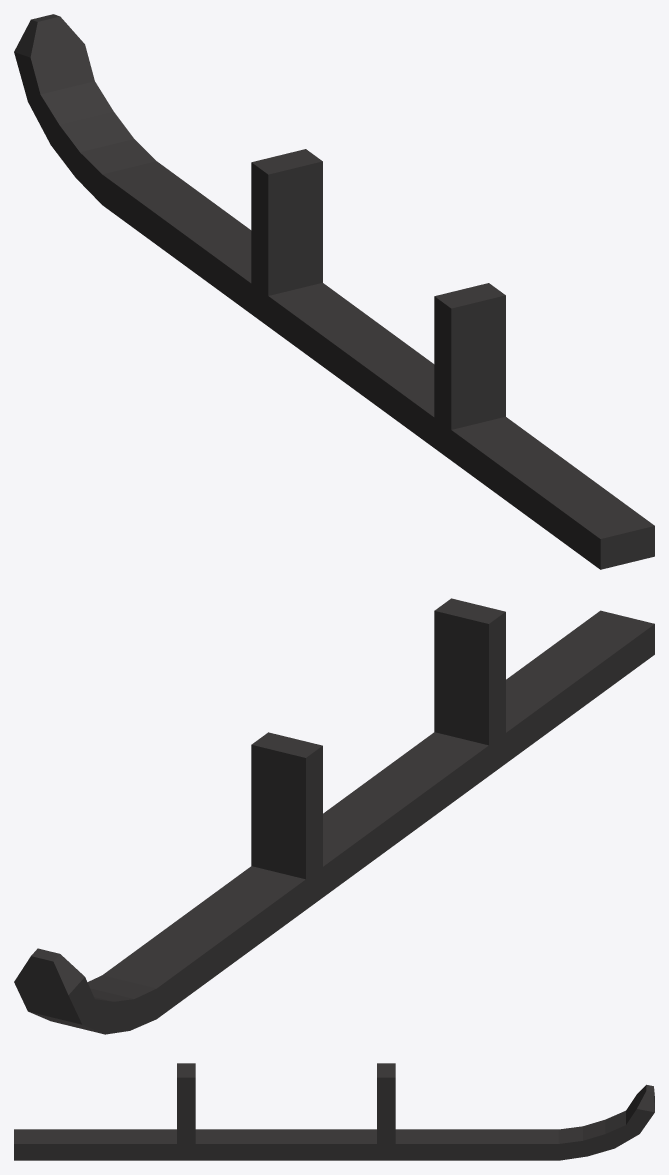
Rendered from winter-catapult-ski.glb.
3 renders of one model, top to bottom at view 1: azimuth 30°, elevation 25°; view 2: azimuth 150°, elevation 25°; view 3: azimuth 270°, elevation 25°, orthographic. The views are drawn at different scales.
Visible parts, largest first — view 1: WinterCatapultSki; view 2: WinterCatapultSki; view 3: WinterCatapultSki.
Part boxes in pixels (x1,y1,x2,y2): WinterCatapultSki: (14, 14, 654, 569); WinterCatapultSki: (14, 598, 654, 1034); WinterCatapultSki: (14, 1063, 654, 1160).
Size of the model in its own units: 17.84 by 47.58 by 333.
1 material, 1 textured.
